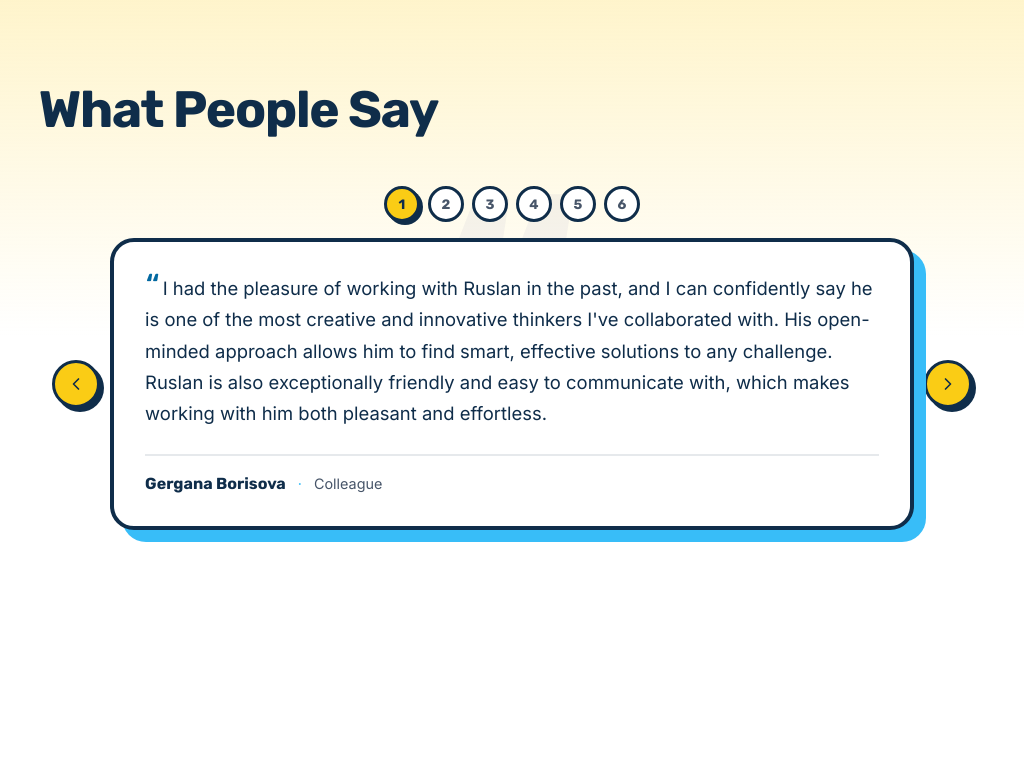
Feedbacks › navigates to previous testimonial
Click the button named "Previous testimonial" at {"x": 76, "y": 384}, box x1=52 y1=360 x2=100 y2=408
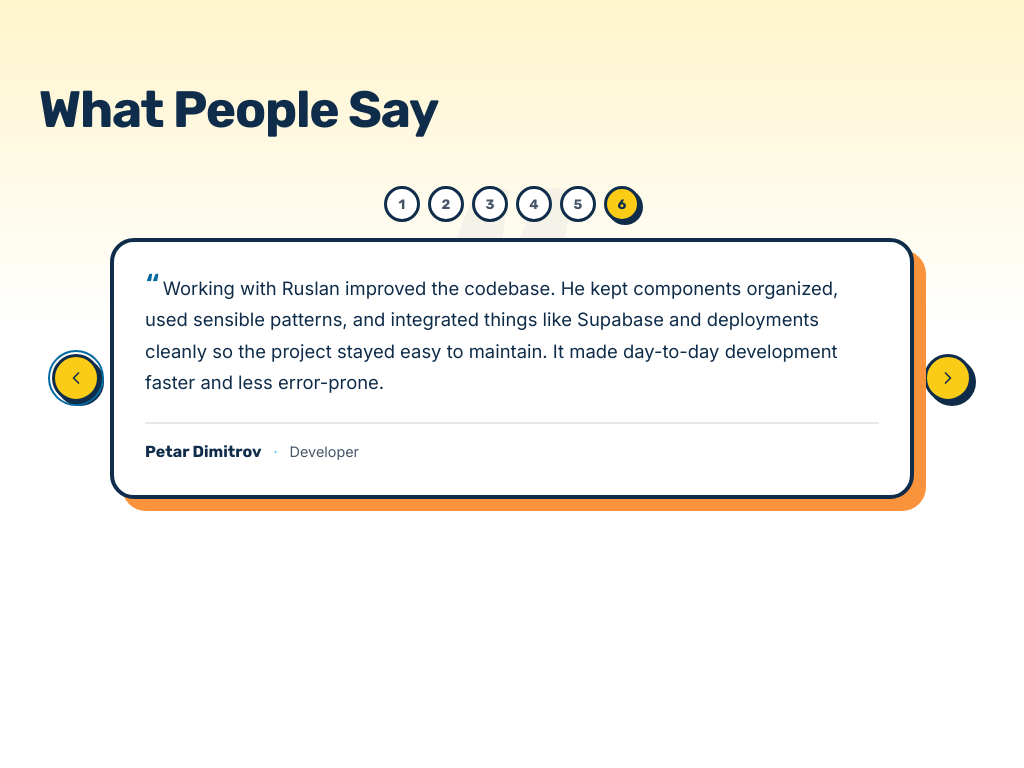
expect the text "Petar Dimitrov" is shown: met, box x1=145 y1=440 x2=261 y2=464
